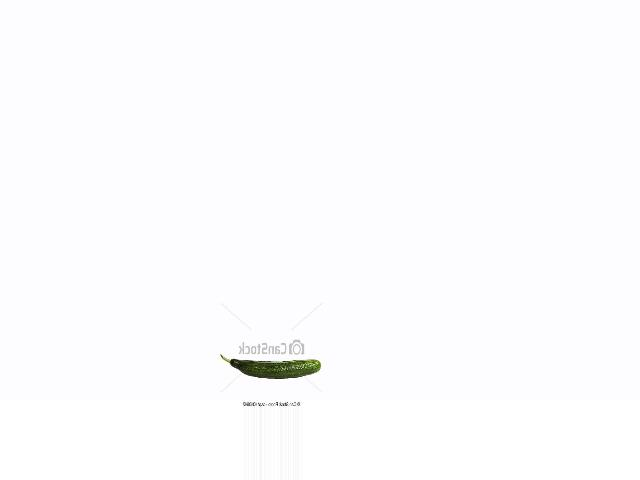cucumber: (219, 355, 320, 379)
